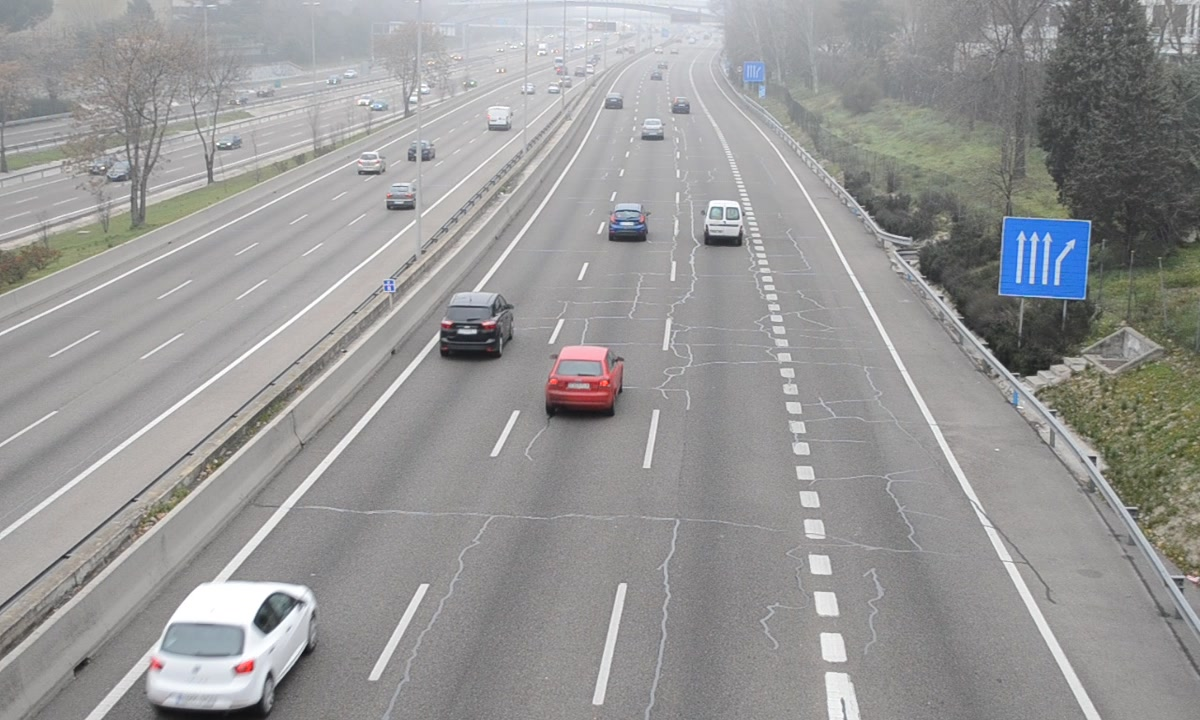car: (145, 582, 316, 711), (547, 346, 624, 411), (437, 293, 512, 356), (608, 205, 647, 243), (641, 118, 666, 142)
van: (703, 201, 745, 246)
